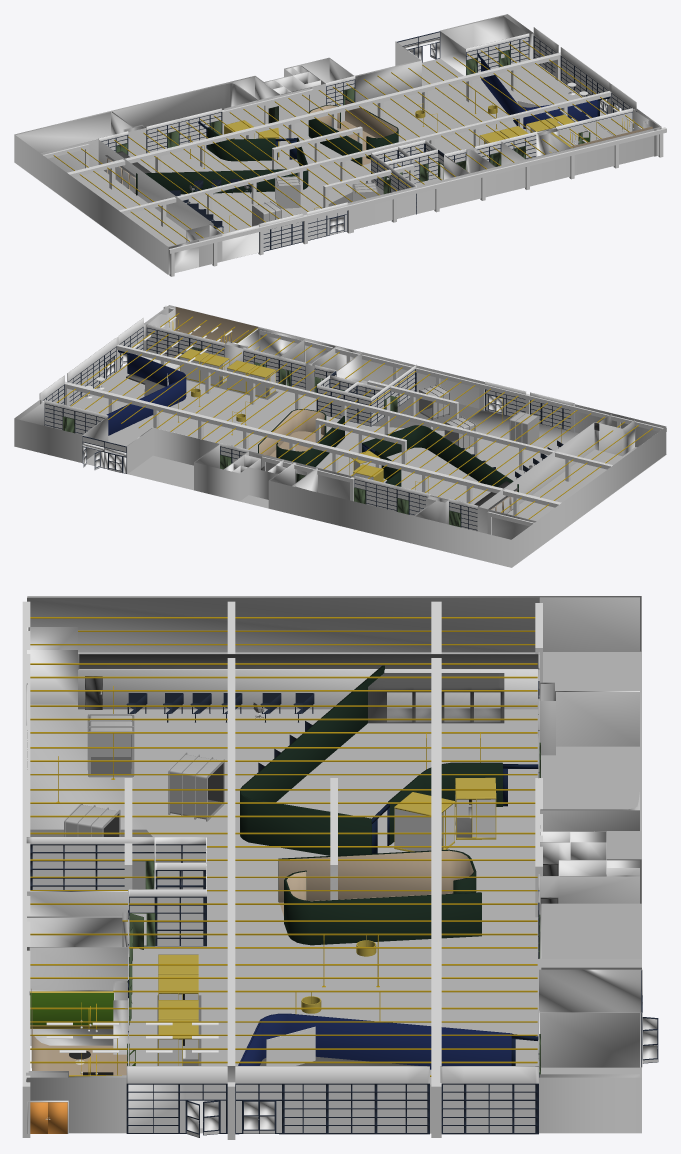
Rendered from TELLUS.dae.
3 views of the same model, one above another, from view 1: azimuth 30°, elevation 25°; view 2: azimuth 150°, elevation 25°; view 3: azimuth 270°, elevation 25° (orthographic). The views are drawn at different scales.
Visible parts, largest first — view 1: walls, FLOOR, Pillars, outerWalls, tellus_windows.001, windows, blueScreen, YellowPillars, WAlls.002, furniture_whiteBooths, FURNITURE.001, yellow_booths_double (+2 smaller); view 2: outerWalls, FLOOR, walls, Pillars, tellus_windows.001, windows, YellowPillars, blueScreen, WAlls.002, furniture_whiteBooths, FURNITURE.001, yellow_booths_double (+1 smaller); view 3: walls, FLOOR, YellowPillars, blueScreen, tellus_windows.001, windows, outerWalls, Pillars, WAlls.002, furniture_whiteBooths, yellow_booths_double, booths (+2 smaller).
Boxes of the visible parts, box(x1,y1,x2,y2) form: walls: box(16, 16, 650, 274); FLOOR: box(14, 58, 606, 274); Pillars: box(43, 52, 666, 276); outerWalls: box(14, 14, 661, 274); tellus_windows.001: box(102, 32, 632, 250); windows: box(98, 27, 636, 252); blueScreen: box(136, 99, 398, 195); YellowPillars: box(53, 40, 643, 244); WAlls.002: box(198, 53, 652, 159); furniture_whiteBooths: box(252, 176, 378, 226); FURNITURE.001: box(479, 114, 574, 145); yellow_booths_double: box(224, 82, 587, 157); outerWalls: box(14, 305, 666, 567); FLOOR: box(70, 355, 666, 567); walls: box(19, 308, 635, 539); Pillars: box(64, 305, 666, 534); tellus_windows.001: box(43, 327, 570, 531); windows: box(39, 317, 574, 530); YellowPillars: box(56, 313, 652, 519); blueScreen: box(258, 409, 518, 492); WAlls.002: box(106, 307, 387, 483); furniture_whiteBooths: box(419, 384, 539, 448); FURNITURE.001: box(180, 349, 275, 398); yellow_booths_double: box(85, 377, 383, 482); walls: box(27, 597, 642, 1077); FLOOR: box(30, 651, 641, 1133); YellowPillars: box(30, 617, 537, 1076); blueScreen: box(240, 665, 502, 945); tellus_windows.001: box(32, 845, 535, 1133); windows: box(26, 652, 539, 1134); outerWalls: box(26, 596, 641, 1133); Pillars: box(22, 601, 542, 1139); WAlls.002: box(31, 764, 538, 1075); furniture_whiteBooths: box(64, 714, 224, 836); yellow_booths_double: box(301, 777, 496, 1013); booths: box(368, 673, 504, 723).
Size of the model in its own units: 67.31 by 37.17 by 4.58.
